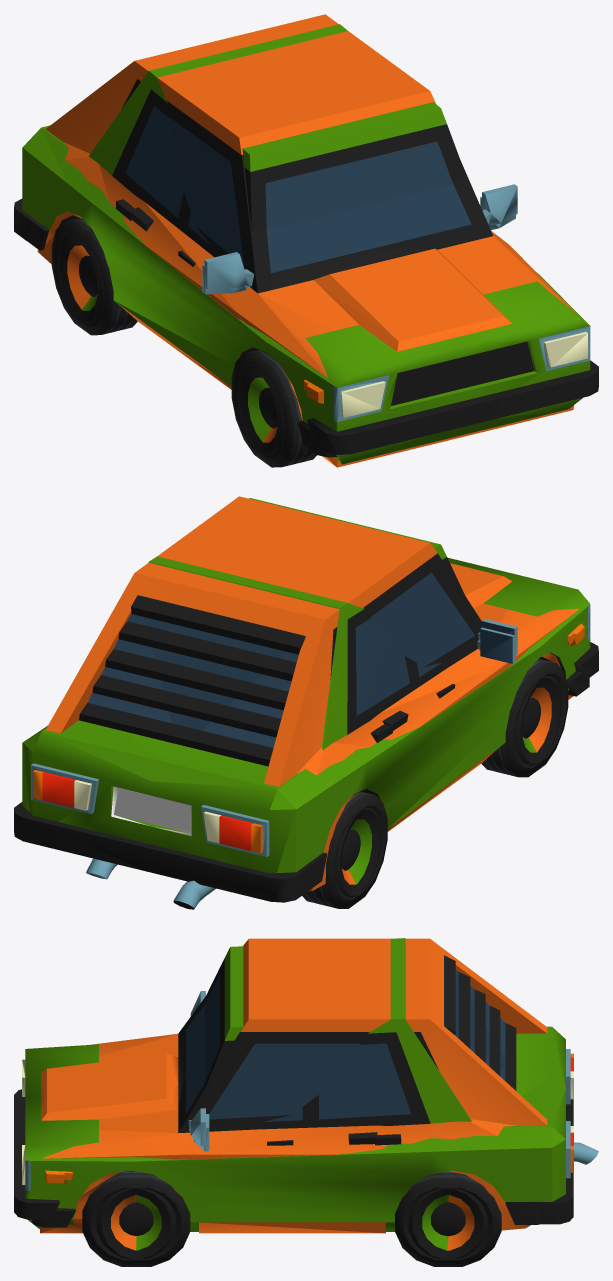
The model's file is Cars.fbx.
3 views of the same model, one above another, from view 1: azimuth 30°, elevation 25°; view 2: azimuth 150°, elevation 25°; view 3: azimuth 270°, elevation 25° (orthographic). The views are drawn at different scales.
Parts seen in each view (by area): view 1: Sedan, Hatchback, FR_2, BR, FR, BR_2; view 2: Hatchback, Sedan, FR, BR_2, FR_2, BR; view 3: Hatchback, Sedan, FL_2, BL, FL, BL_2.
Part boxes in pixels (bbox=[...]): Sedan: bbox=[14, 24, 598, 464]; Hatchback: bbox=[26, 14, 578, 467]; FR_2: bbox=[238, 359, 316, 467]; BR: bbox=[58, 228, 137, 335]; FR: bbox=[231, 349, 284, 458]; BR_2: bbox=[51, 217, 103, 326]; Hatchback: bbox=[45, 496, 589, 891]; Sedan: bbox=[14, 498, 598, 909]; FR: bbox=[481, 665, 561, 777]; BR_2: bbox=[302, 797, 381, 908]; FR_2: bbox=[515, 659, 568, 772]; BR: bbox=[335, 791, 387, 904]; Hatchback: bbox=[31, 938, 547, 1233]; Sedan: bbox=[14, 938, 598, 1231]; FL_2: bbox=[82, 1170, 175, 1266]; BL: bbox=[395, 1171, 487, 1266]; FL: bbox=[96, 1172, 190, 1266]; BL_2: bbox=[408, 1172, 501, 1266].
Size of the model in its own units: 227 by 186 by 427.
5 materials, 4 textured.
